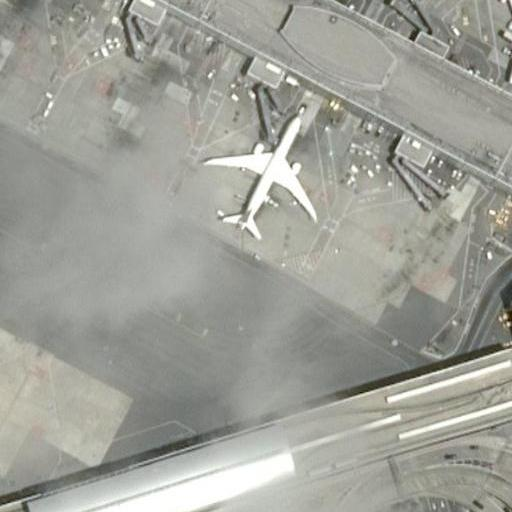Aircraft: (197, 102, 318, 242), (489, 0, 512, 86)
